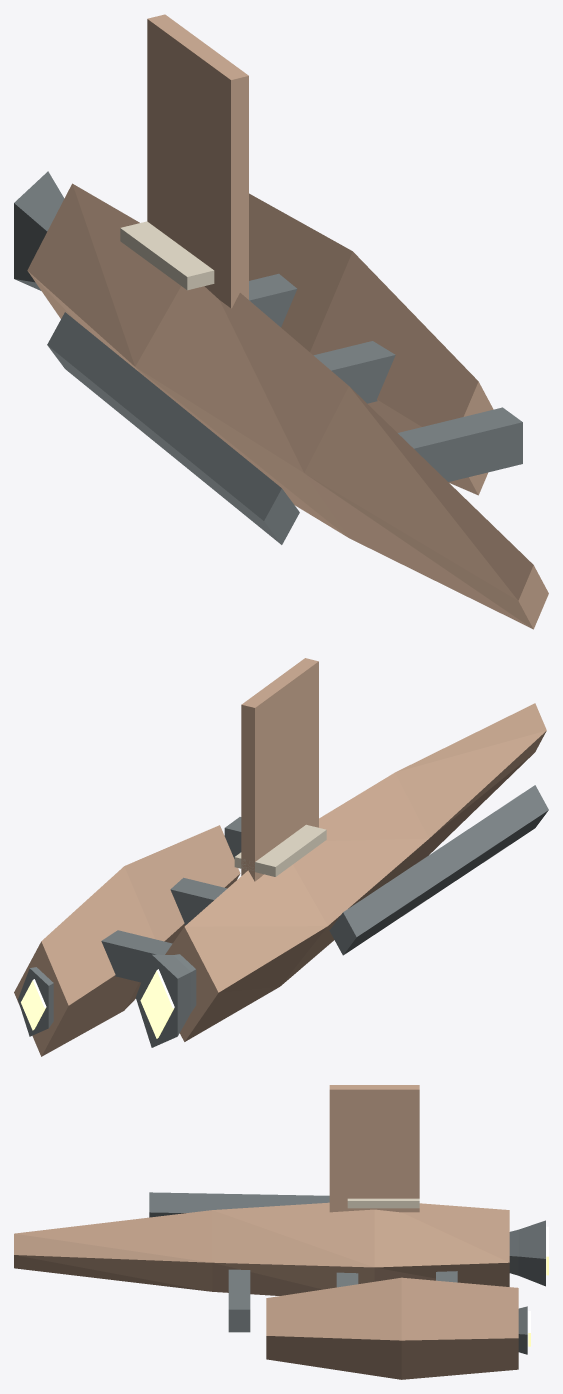
3 renders of one model, top to bottom at view 1: azimuth 30°, elevation 25°; view 2: azimuth 150°, elevation 25°; view 3: azimuth 270°, elevation 25°, orthographic. The views are drawn at different scales.
Bounding box in the file's own units: 4.41 × 5.22 × 10.33.
